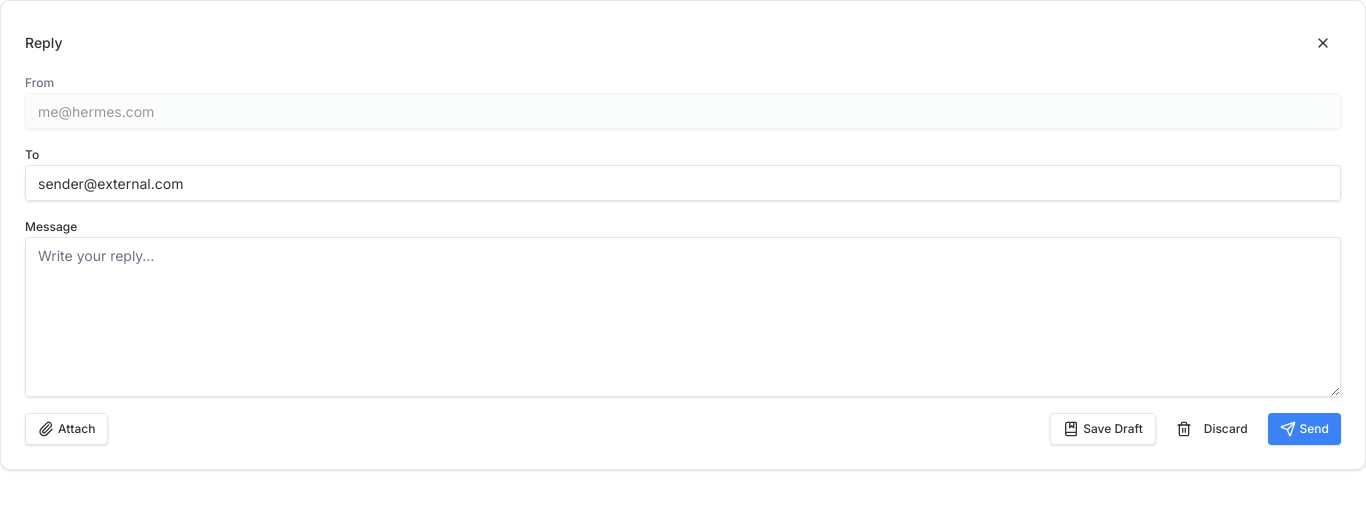
ReplyComposer › send › shows error message when send fails
Click the button with test id "send-button" at (1304, 429), box [1268, 413, 1341, 445]
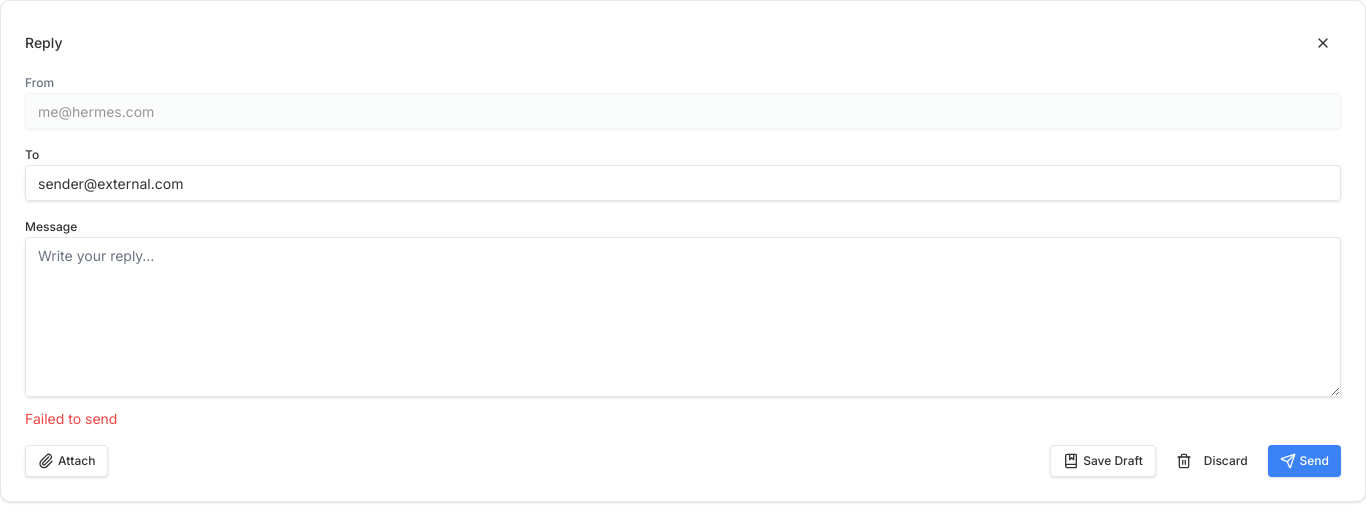
Now the message "Failed to send" is shown, box [25, 410, 117, 427]
